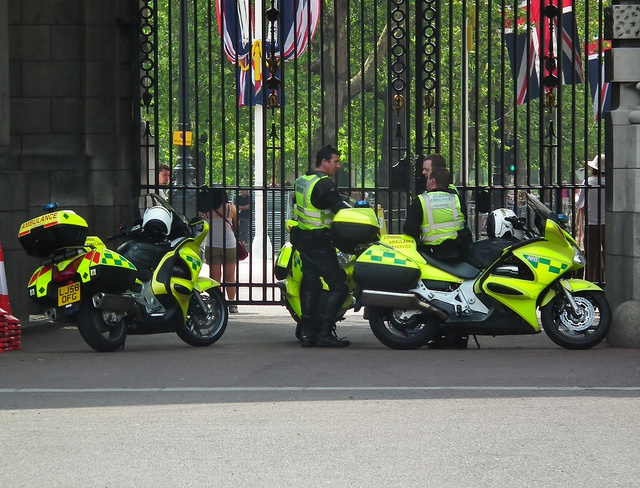non-vehicle: (332, 207, 608, 347), (17, 194, 228, 355), (275, 240, 363, 320)
